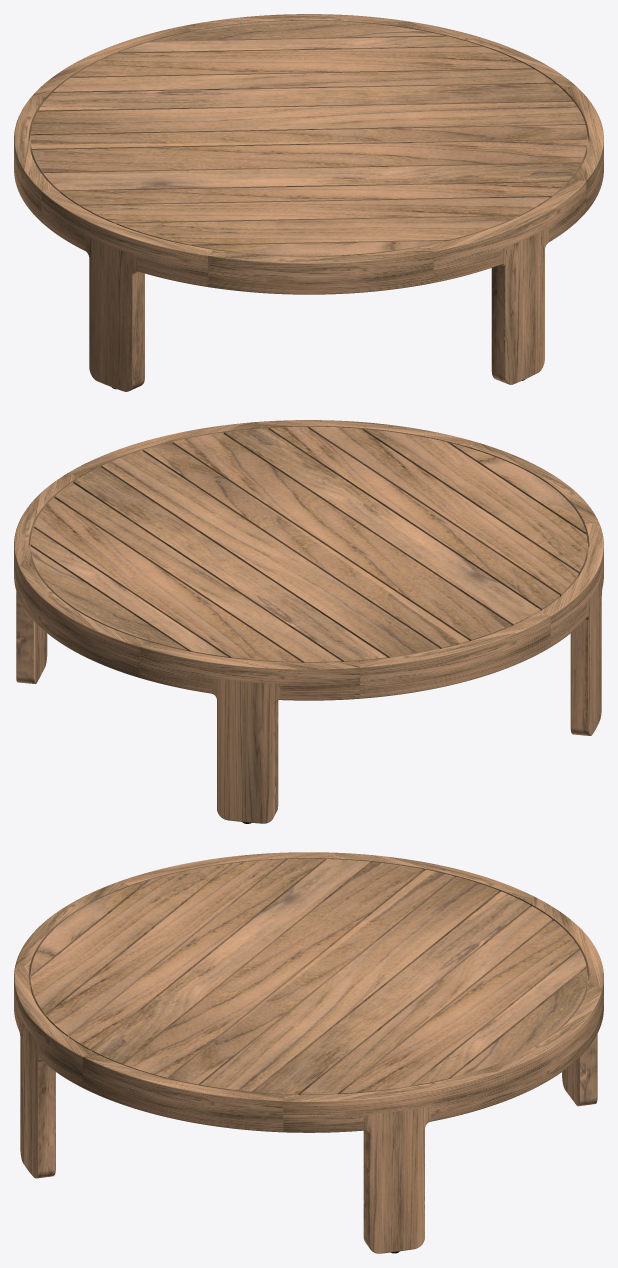
Rendered from table labo.obj.
3 renders of one model, top to bottom at view 1: azimuth 30°, elevation 25°; view 2: azimuth 150°, elevation 25°; view 3: azimuth 270°, elevation 25°, orthographic.
Visible parts, largest first — view 1: 22, 20, 17, 23, 19, 5, 21, 13, 14, Object003_26, 12, 18 (+11 smaller); view 2: 22, 20, 17, 23, 19, Object002_27, 21, 13, 14, 7, 8, 12 (+12 smaller); view 3: 22, 20, 17, 23, 19, Object001_28, 21, 13, 14, 3, 12, 2 (+12 smaller).
Part boxes in pixels (x1,y1,x2,y2): 22: [32, 139, 587, 174]; 20: [30, 101, 585, 135]; 17: [71, 46, 532, 77]; 23: [43, 163, 580, 192]; 19: [38, 83, 572, 111]; 5: [208, 245, 433, 294]; 21: [30, 125, 587, 155]; 13: [80, 197, 550, 224]; 14: [116, 216, 517, 246]; Object003_26: [85, 237, 144, 391]; 12: [60, 182, 567, 206]; 18: [53, 69, 554, 92]; 22: [172, 432, 511, 641]; 20: [101, 450, 439, 657]; 17: [34, 497, 301, 662]; 23: [224, 428, 540, 625]; 19: [73, 466, 387, 661]; Object002_27: [211, 678, 280, 823]; 21: [143, 442, 469, 648]; 13: [308, 426, 578, 596]; 14: [363, 429, 587, 575]; 7: [358, 612, 550, 698]; 8: [139, 641, 360, 700]; 12: [269, 426, 559, 610]; 22: [123, 862, 423, 1078]; 20: [200, 876, 499, 1092]; 17: [340, 920, 579, 1093]; 23: [92, 859, 370, 1064]; 19: [254, 891, 530, 1094]; Object001_28: [363, 1107, 430, 1253]; 21: [169, 869, 454, 1085]; 13: [46, 859, 284, 1037]; 14: [30, 863, 230, 1017]; 3: [83, 1052, 284, 1132]; 12: [69, 858, 324, 1051]; 2: [283, 1067, 498, 1132].
Size of the model in its own units: 100 by 30 by 100.
Materials: 2 (1 with a texture image).
